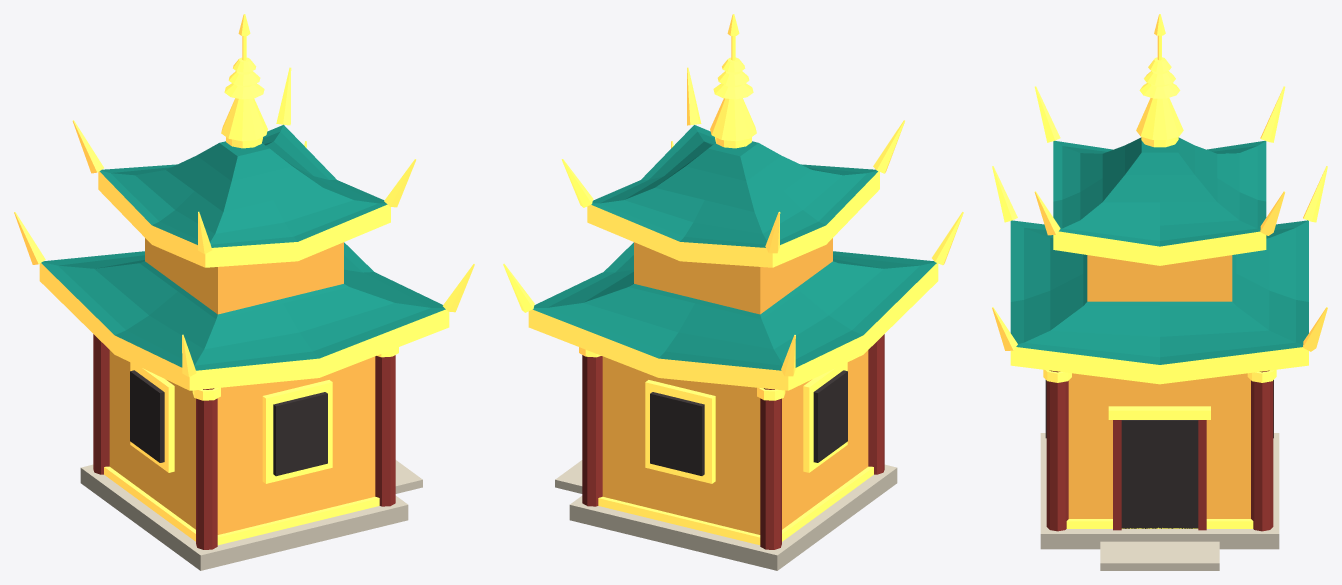
File: coc.glb
3 renders of one model, left to right at view 1: azimuth 30°, elevation 25°; view 2: azimuth 150°, elevation 25°; view 3: azimuth 270°, elevation 25°, orthographic.
Parts seen in each view (by area): view 1: coc; view 2: coc; view 3: coc.
Boxes of the visible parts, x1,y1,x2,y2 form: coc: (14, 14, 474, 570); coc: (503, 14, 963, 570); coc: (992, 14, 1327, 570).
Size of the model in its own units: 3.97 by 6.27 by 3.94.
